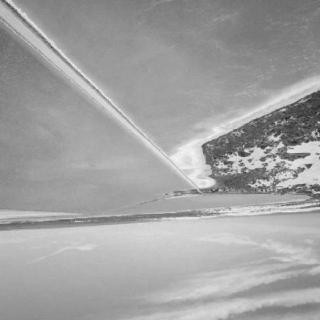other: (174, 132, 212, 196), (276, 145, 320, 191)
